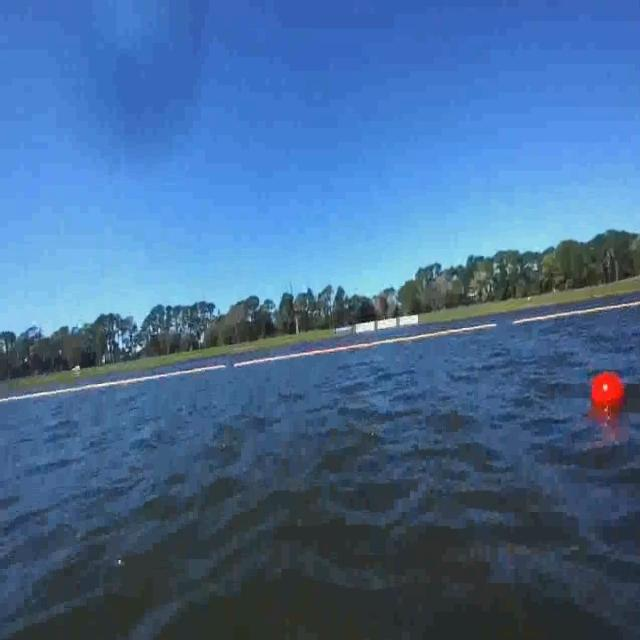red-buoy: (591, 374, 624, 407)
